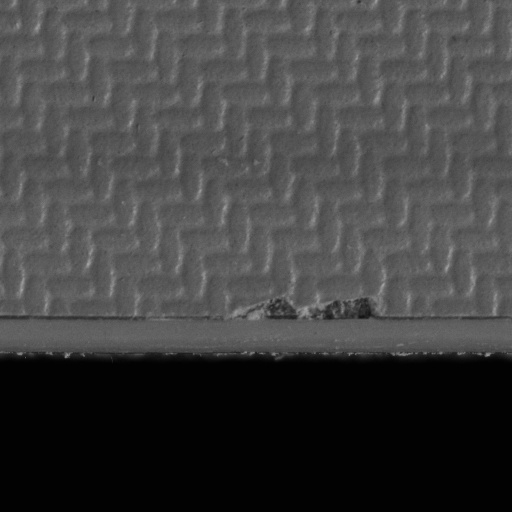bengque: (231, 293, 386, 322)
